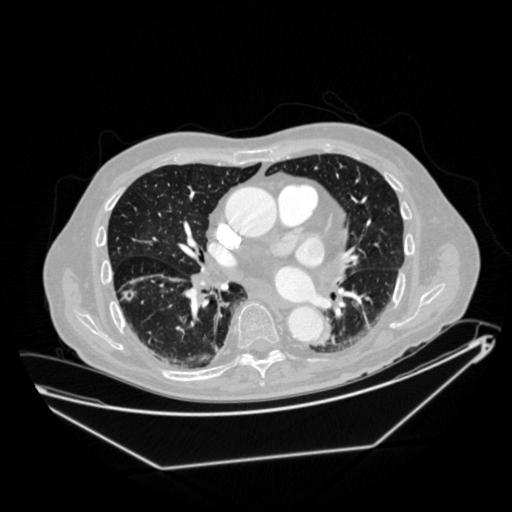nodule: (119, 286, 137, 304)
